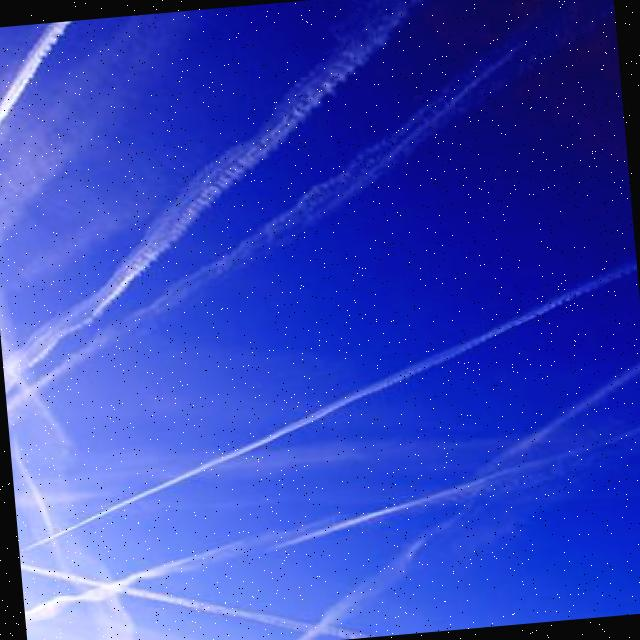Ct: (1, 1, 613, 640)
